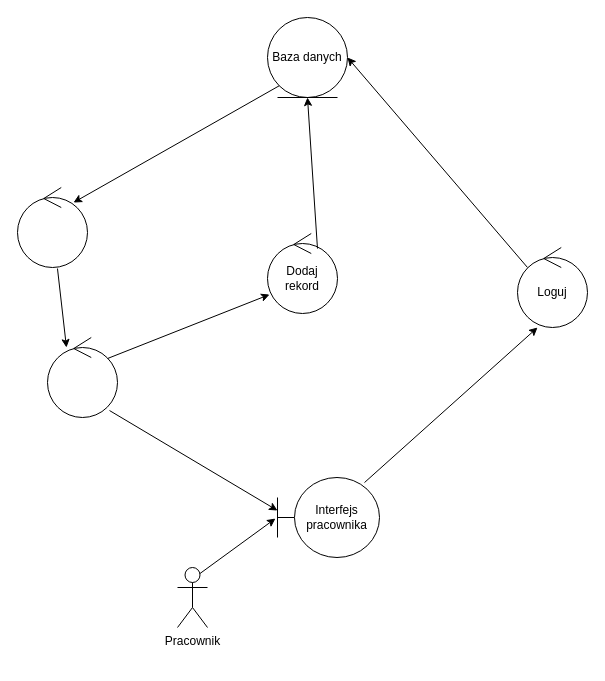
The diagram is 605 pixels wide and 681 high, and some of its shapes have lost their labels. The box of each missing label's shape, as (x1, y1, x2, y2) in pixels:
Sprawdź poprawność danych: (16, 186, 88, 268)
Zarejestruj przesyłkę: (46, 336, 118, 418)
